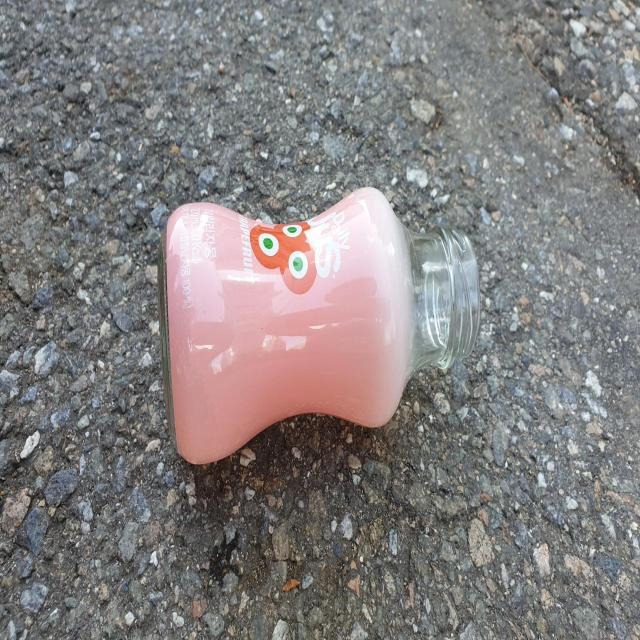glass: (158, 187, 480, 463)
